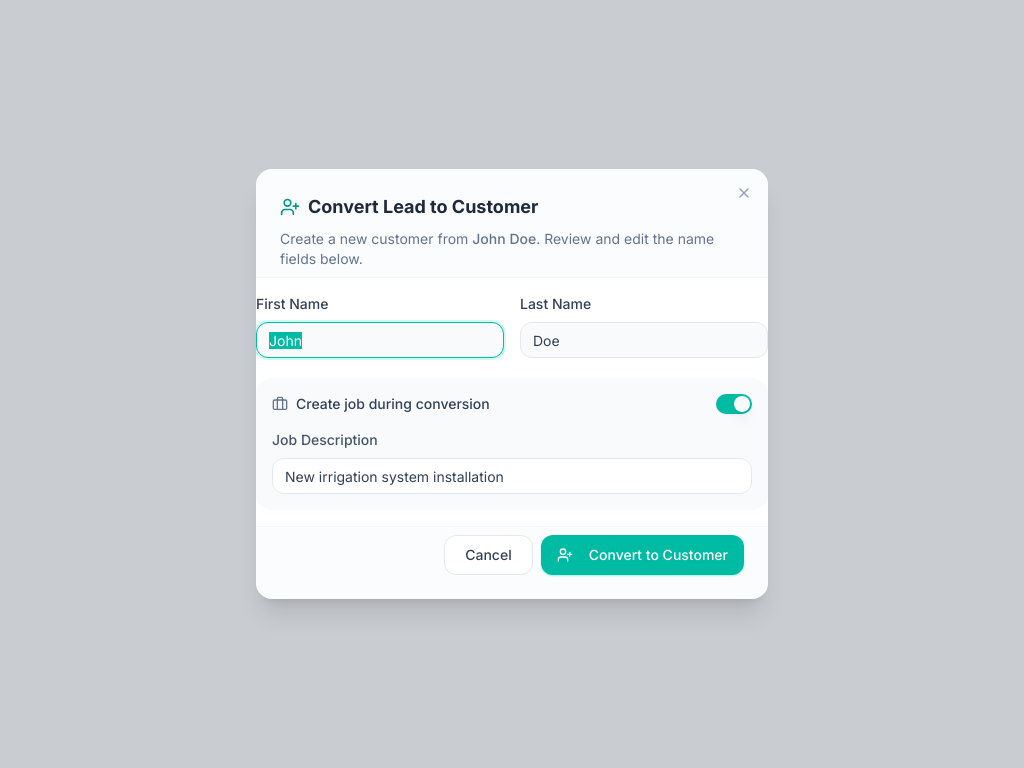
Test: ConvertLeadDialog › hides job description field when create job toggle is turned off
Expected: the field with test id "convert-job-description" is shown, [272,458,752,494]
# Click the switch to toggle off
Click the switch with test id "convert-create-job" at (734, 404), box [716,394,752,414]
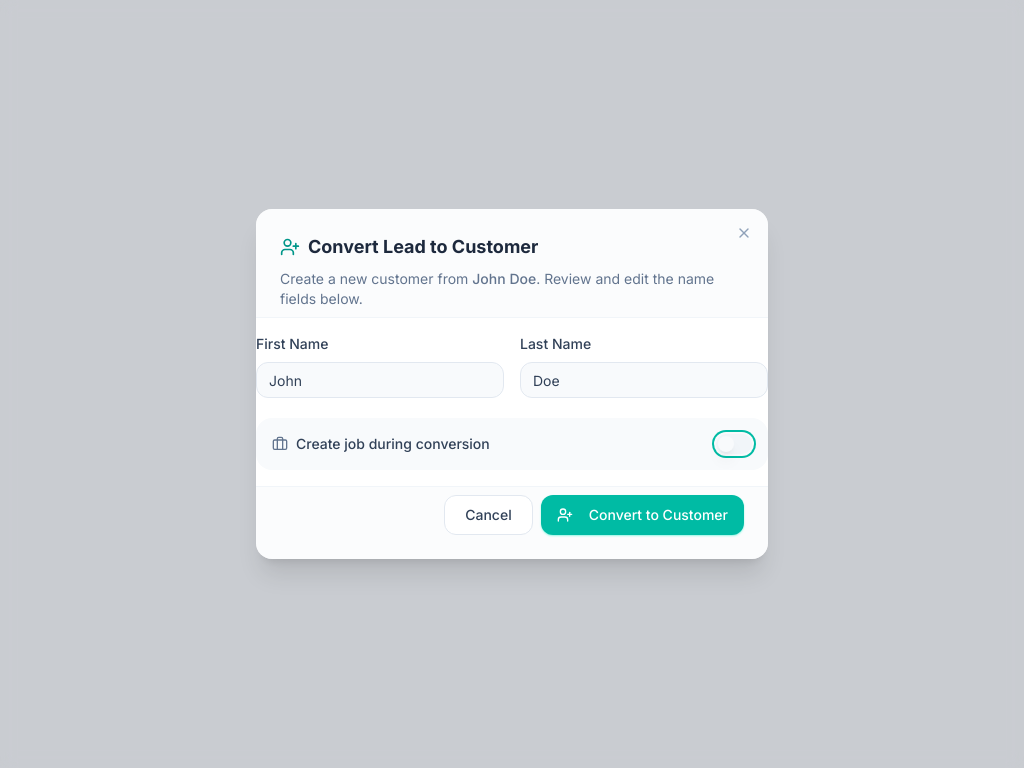
Now the label with test id "convert-job-description" is gone
